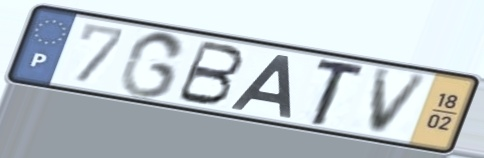7: (75, 20, 129, 87)
A: (226, 52, 294, 120)
B: (171, 38, 247, 108)
G: (116, 29, 190, 100)
T: (307, 58, 370, 128)
V: (366, 67, 435, 137)
